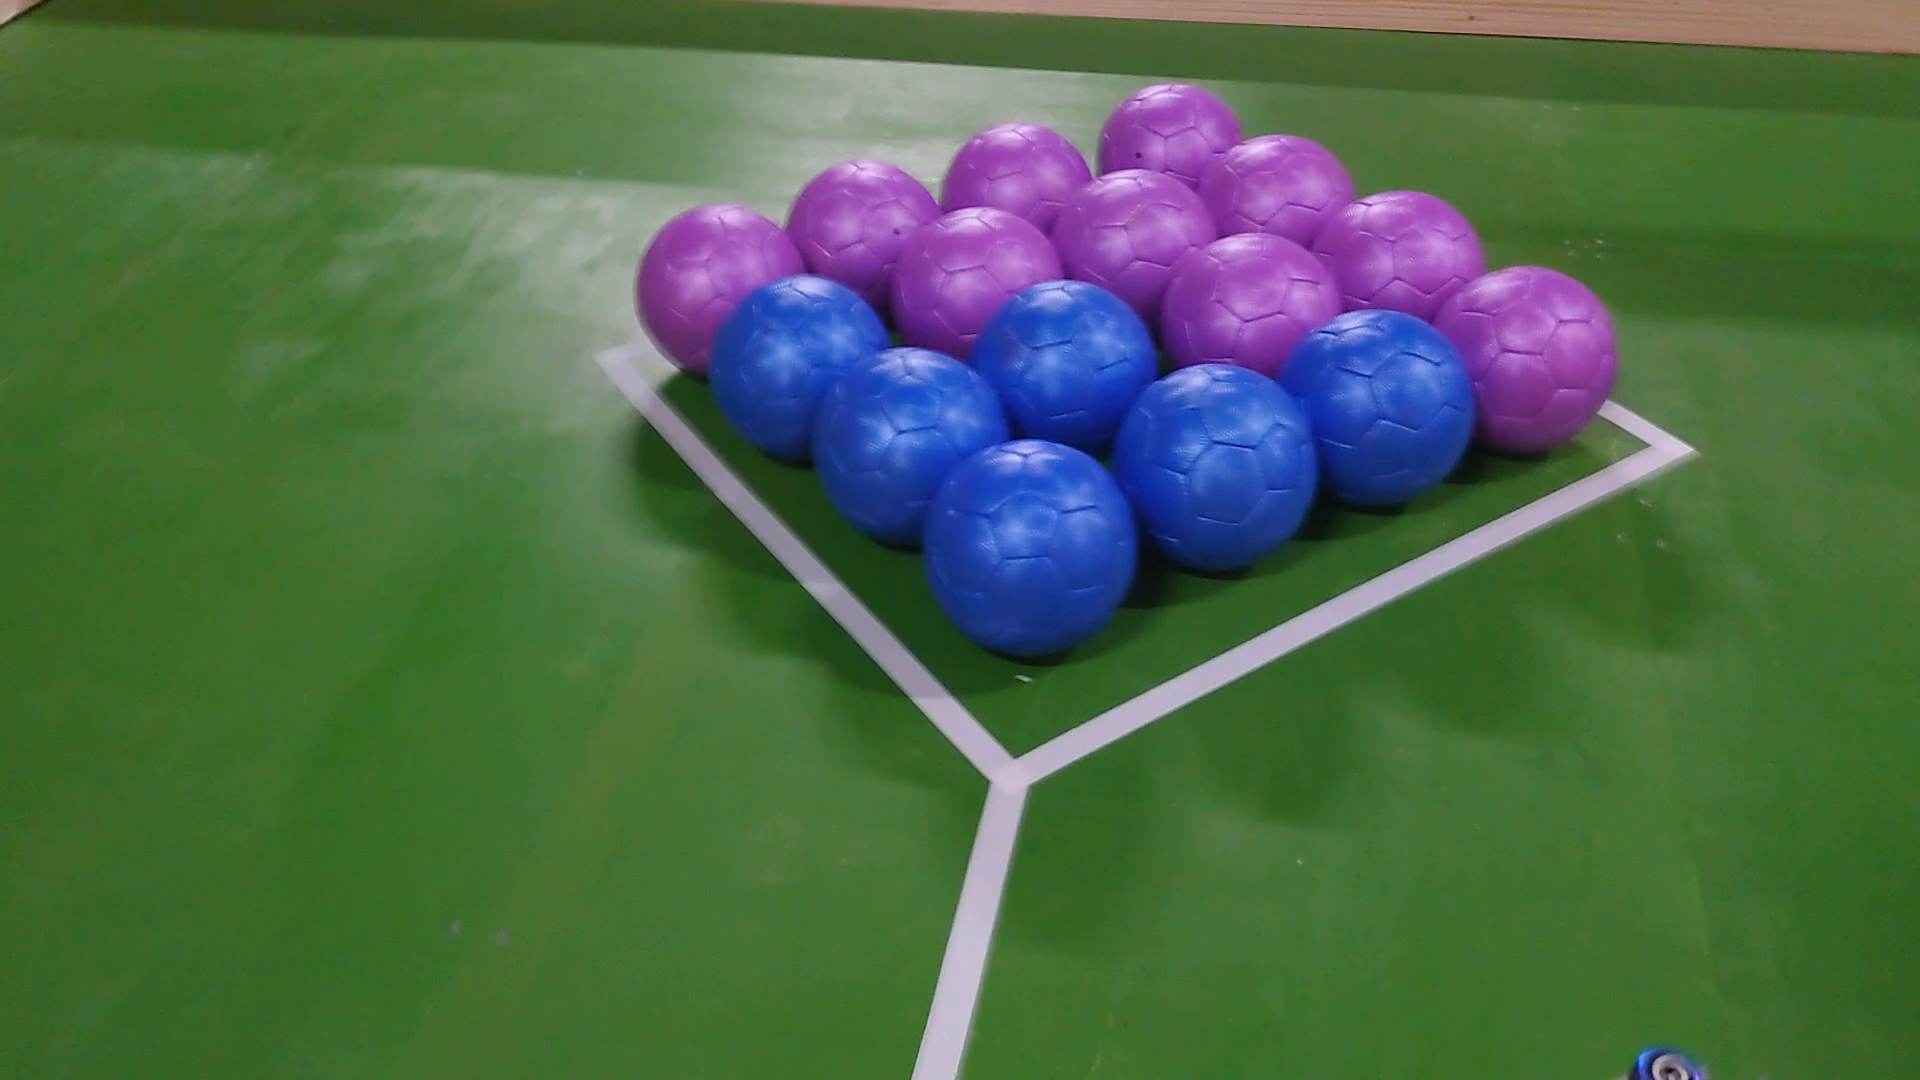blue: (931, 438, 1130, 653), (1117, 363, 1319, 571), (816, 345, 1006, 542), (1287, 316, 1476, 509), (712, 274, 891, 464), (967, 281, 1163, 438)
purple: (1431, 272, 1619, 458), (633, 206, 803, 378), (1166, 235, 1338, 372), (1316, 190, 1489, 320), (891, 208, 1055, 345), (787, 157, 947, 284), (1048, 166, 1215, 287), (934, 124, 1097, 225), (1097, 82, 1250, 179), (1205, 137, 1352, 239)
